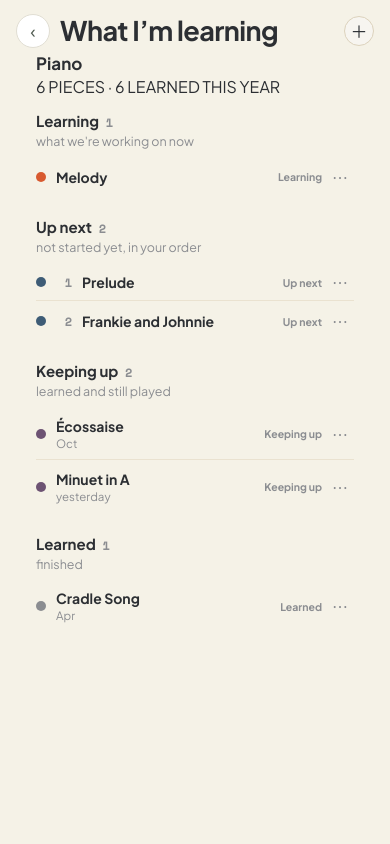
it: the ＋ door › "Your collections" closes the door and opens the collections screen
Click the button named "Add": (359, 31) [344,16,374,46]
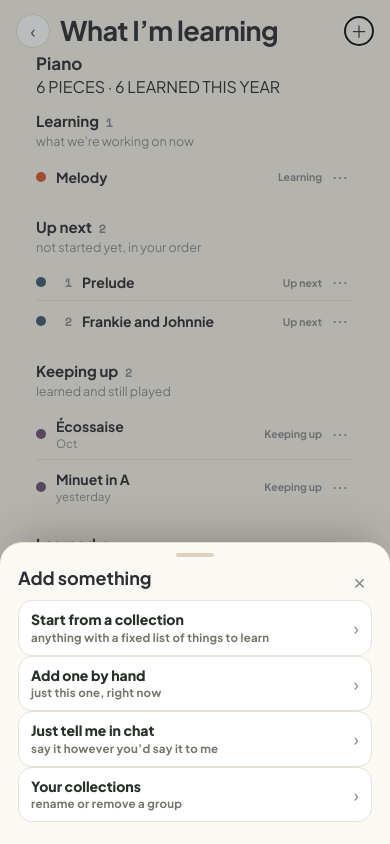
Click the text "Your collections": (86, 786) [31,776,141,794]
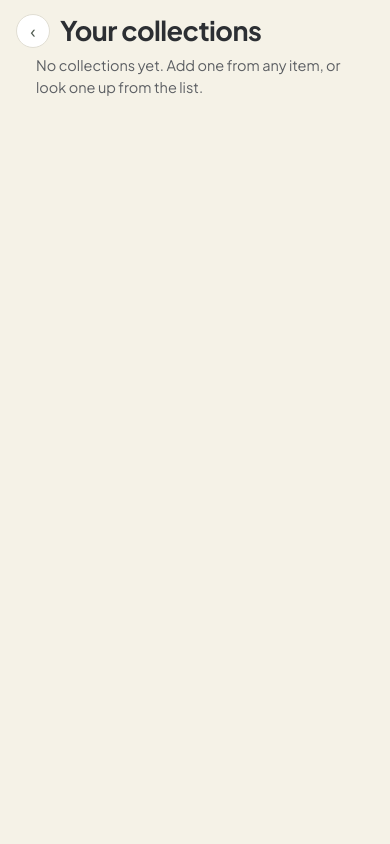
Now the dialog "Your collections" is shown
Now the text "Add something" is gone
